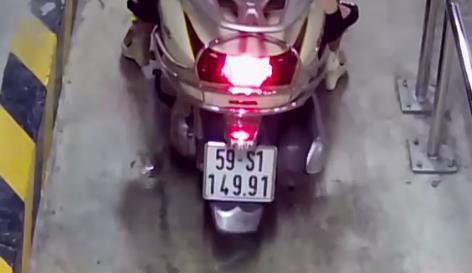lisence: (204, 141, 275, 201)
